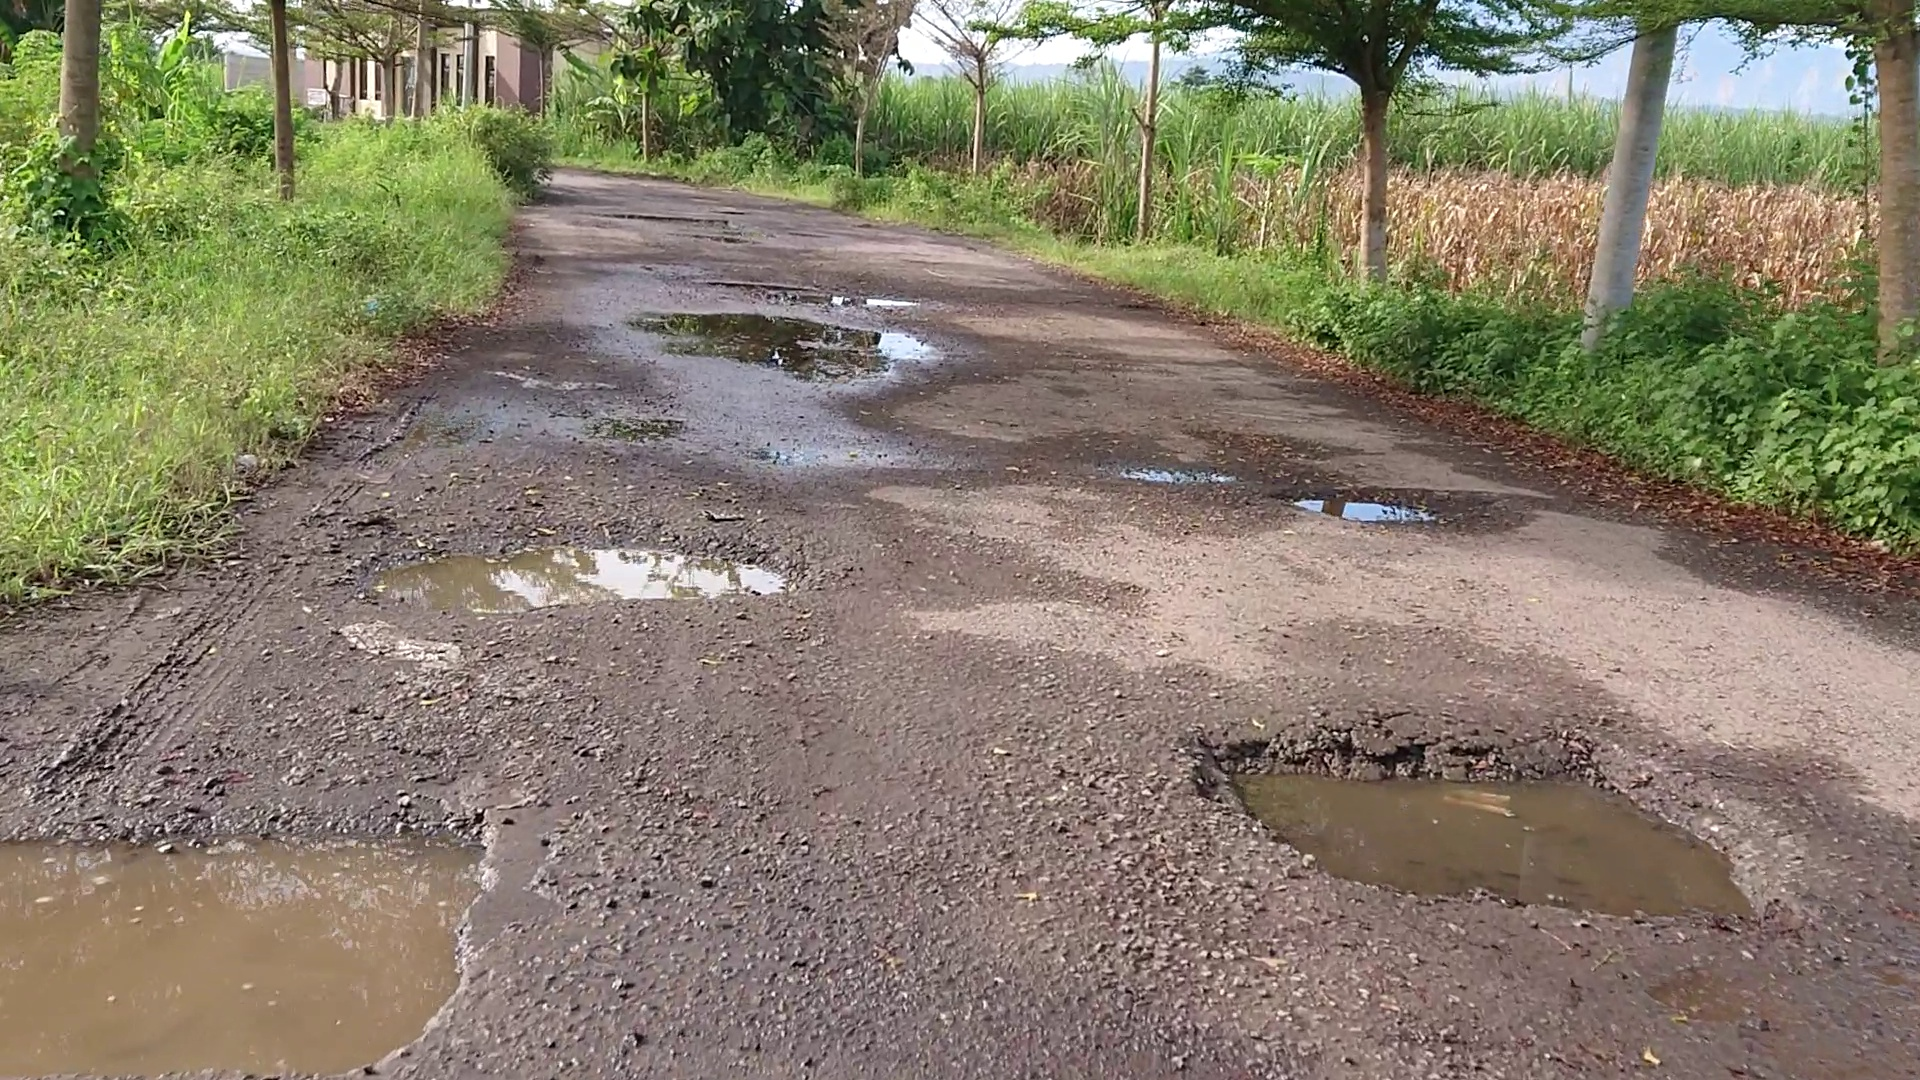Berlubang: (1, 787, 526, 1080), (1233, 758, 1741, 905), (381, 543, 808, 607), (644, 302, 935, 392), (1279, 484, 1460, 524)
